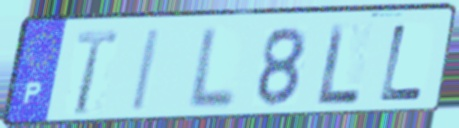8: (255, 24, 308, 108)
I: (128, 27, 164, 115)
L: (183, 24, 240, 113), (376, 22, 428, 104), (315, 21, 363, 109)
T: (71, 28, 121, 119)
